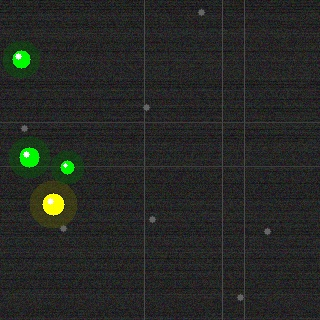green_normal: (17, 145, 41, 169), (10, 48, 32, 70), (58, 158, 76, 176)
yellow_warning: (40, 191, 66, 217)
